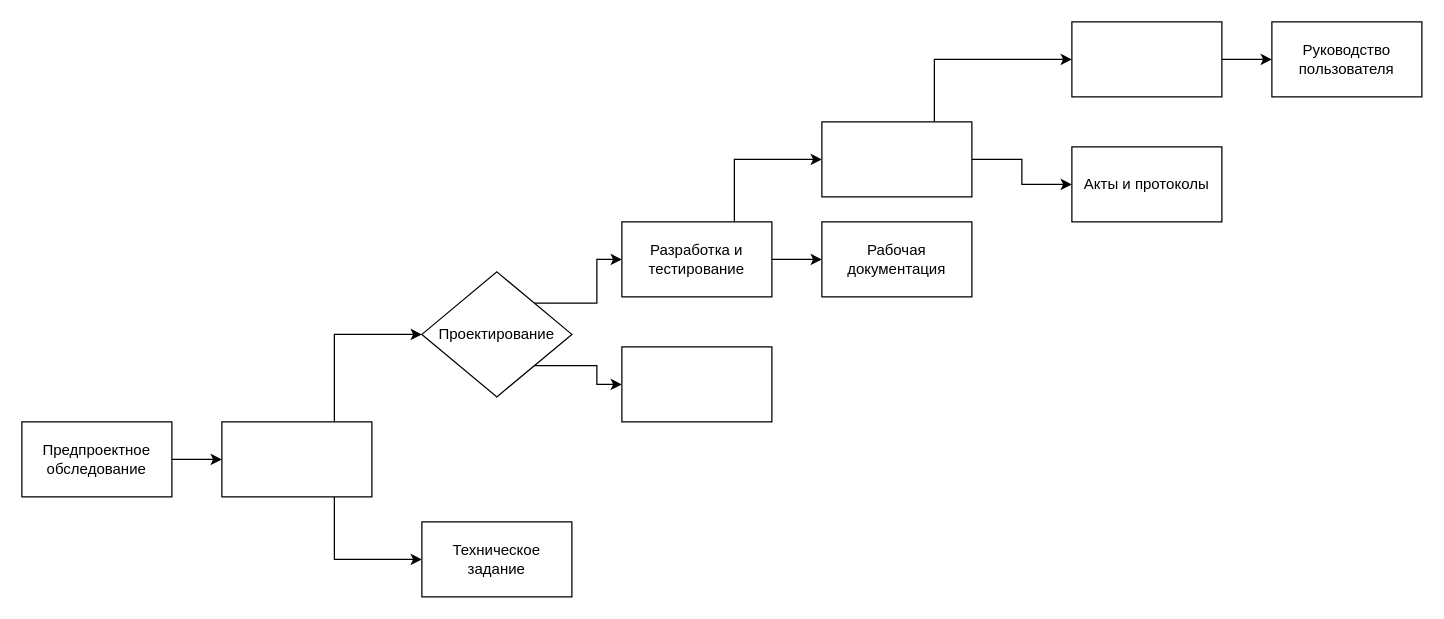
Some shapes in this 1444 by 619 pixel diagram are drawn without their labels. The shapes that lost their labels are listed below. From the top down, each one's centre as x and y in pixels, then its label:
(1146,59): Сорповождение
(896,159): Внедрение
(696,384): Эскизный и технические проекты
(296,459): Формирование требований
